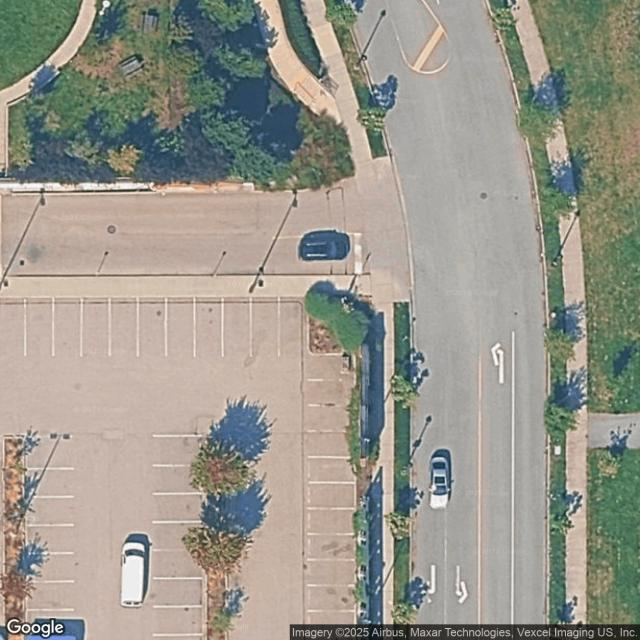car: (121, 541, 146, 608)
lot_boundary: (2, 302, 371, 638)
